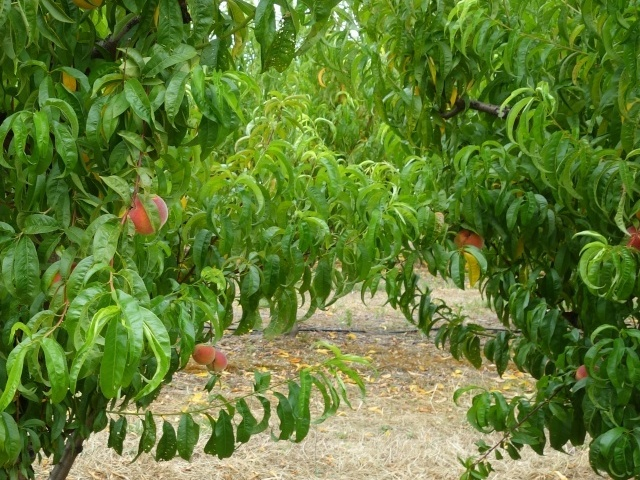peach: (124, 189, 172, 238), (452, 222, 485, 258), (190, 337, 217, 368), (208, 348, 232, 379), (573, 358, 600, 385)
